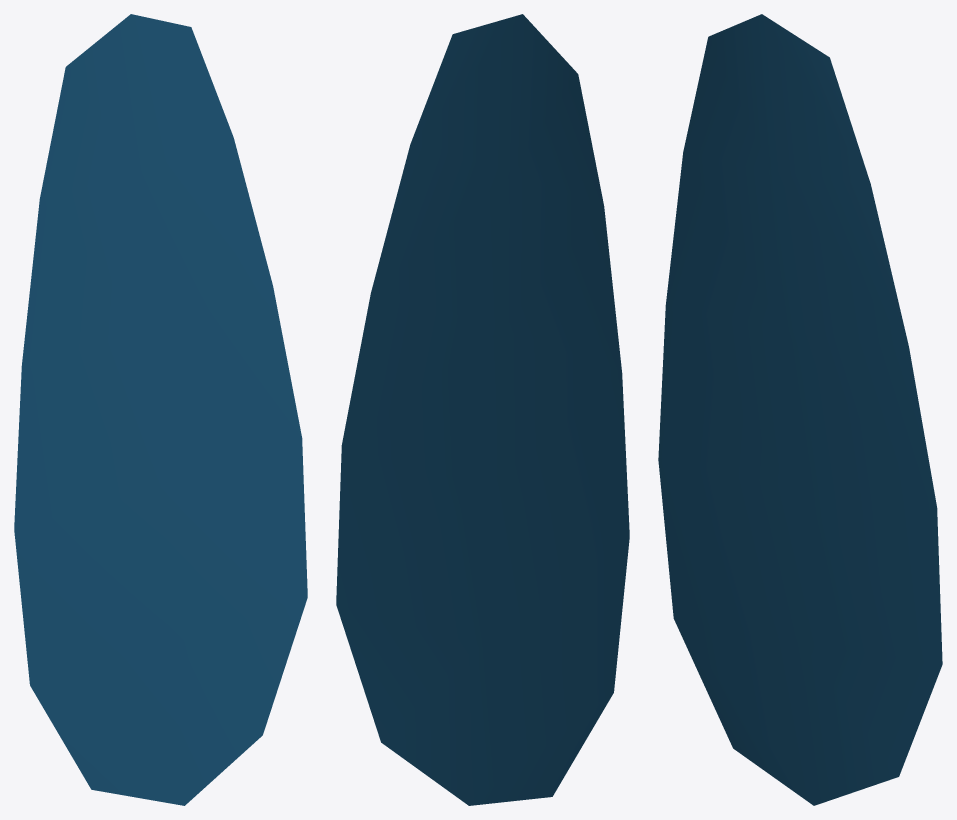
File: budgie_feather_flight_secondary_006.obj
3 views of the same model, side by side, from view 1: azimuth 30°, elevation 25°; view 2: azimuth 150°, elevation 25°; view 3: azimuth 330°, elevation 25° (orthographic). The views are drawn at different scales.
Visible parts, largest first — view 1: feather_flight_secondary_006; view 2: feather_flight_secondary_006; view 3: feather_flight_secondary_006.
Part boxes in pixels (<box>): feather_flight_secondary_006: <box>14,14,307,805</box>; feather_flight_secondary_006: <box>336,14,629,805</box>; feather_flight_secondary_006: <box>658,14,942,805</box>.
Bounding box in the file's own units: 0.0111 × 0.0291 × 0.000321.
